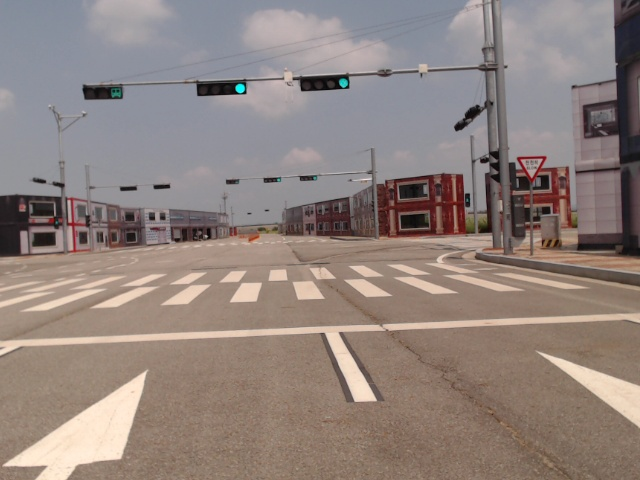straight_green_4: (299, 75, 351, 90), (195, 80, 247, 95), (263, 178, 283, 183), (299, 176, 318, 181)
